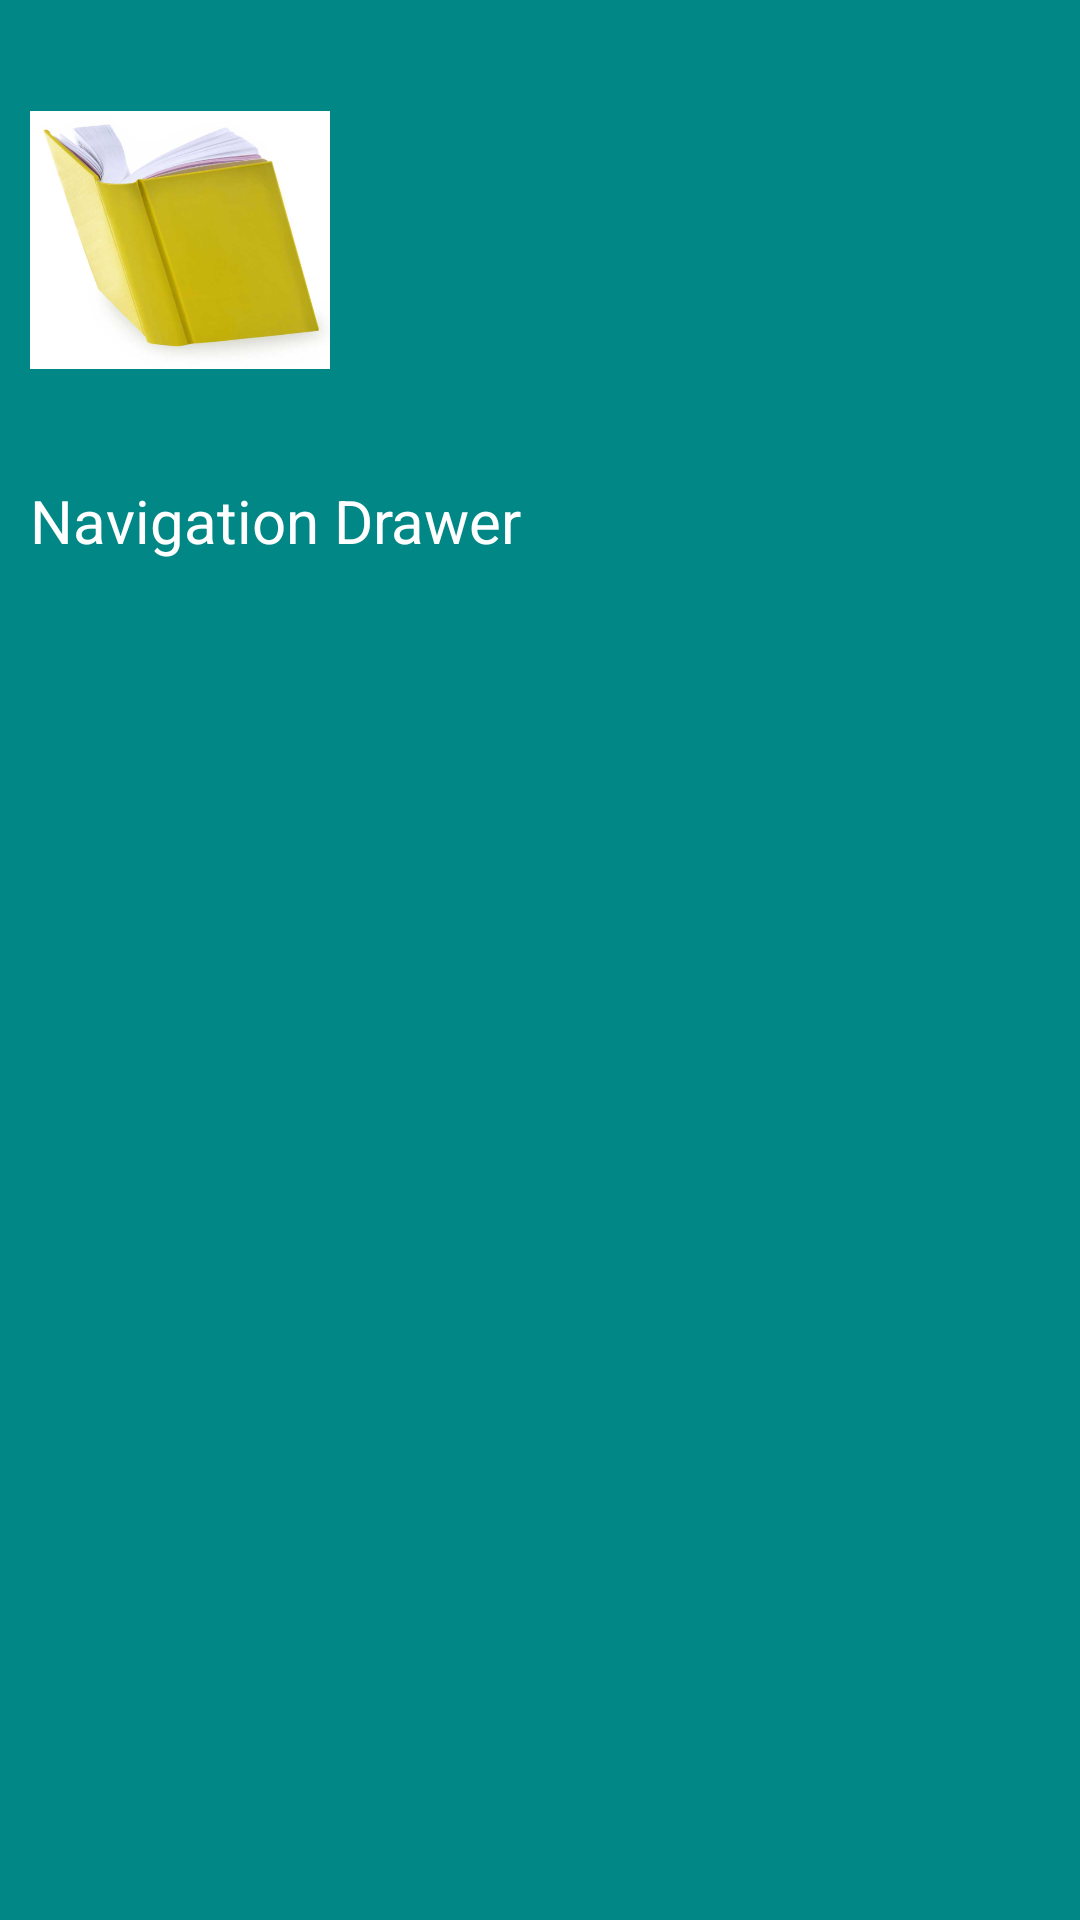

Icons on this 1080w x 1920h Android screen, each with the point to tap as (x=x, y=y):
book: (x=180, y=240)
